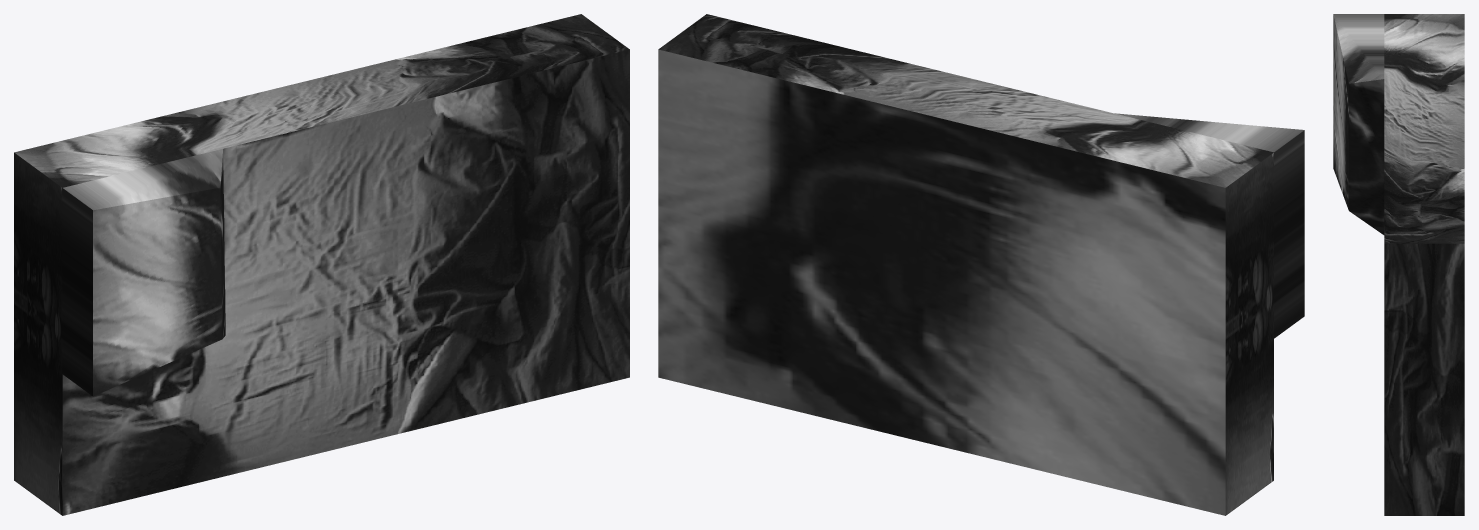
File: Bed.fbx
The picture shows the model from 3 angles, left to right: view 1: azimuth 30°, elevation 25°; view 2: azimuth 150°, elevation 25°; view 3: azimuth 270°, elevation 25°; orthographic projection. The views are drawn at different scales.
Parts seen in each view (by area): view 1: Cube; view 2: Cube; view 3: Cube.
Part boxes in pixels (left/top/right/bottom): Cube: left=14, top=14, right=629, bottom=515; Cube: left=658, top=14, right=1304, bottom=515; Cube: left=1333, top=14, right=1464, bottom=515.
Bounding box in the file's own units: 429 × 237 × 103.
